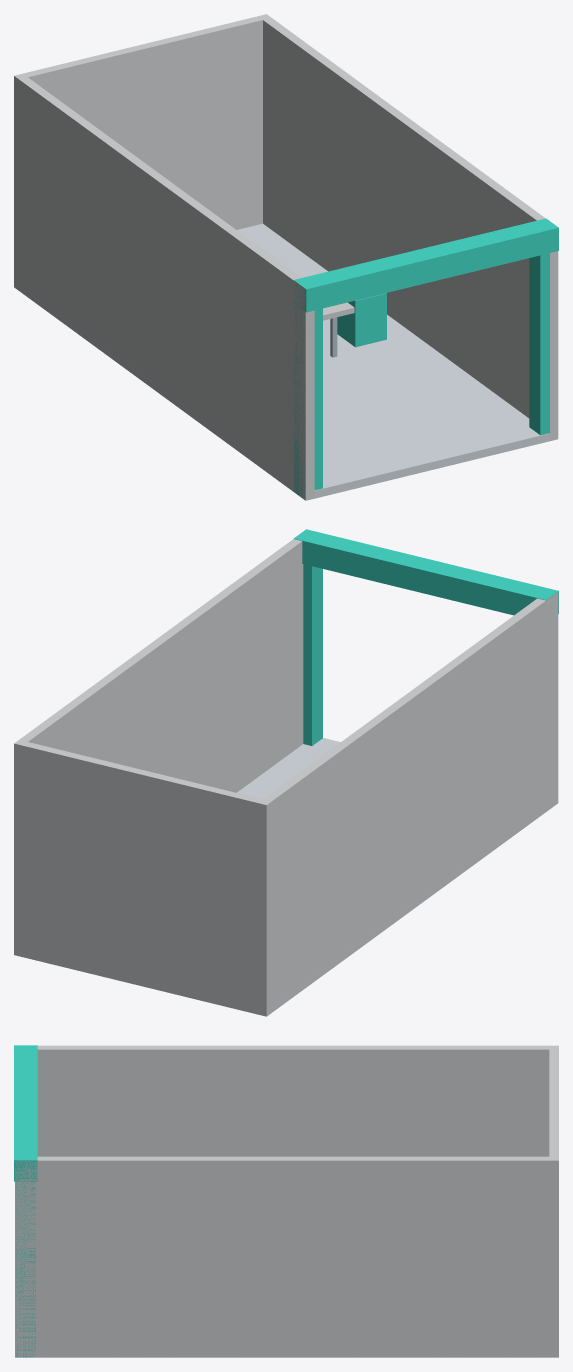
The picture shows the model from 3 angles, top to bottom: view 1: azimuth 30°, elevation 25°; view 2: azimuth 150°, elevation 25°; view 3: azimuth 270°, elevation 25°; orthographic projection. The views are drawn at different scales.
Visible parts, largest first — view 1: Exhibition Booth Concept; view 2: Exhibition Booth Concept; view 3: Exhibition Booth Concept.
Part boxes in pixels (x1,y1,x2,y2): Exhibition Booth Concept: [14, 14, 558, 500]; Exhibition Booth Concept: [14, 529, 558, 1016]; Exhibition Booth Concept: [14, 1045, 558, 1357].
Size of the model in its own units: 4 by 3.2 by 8.01.
